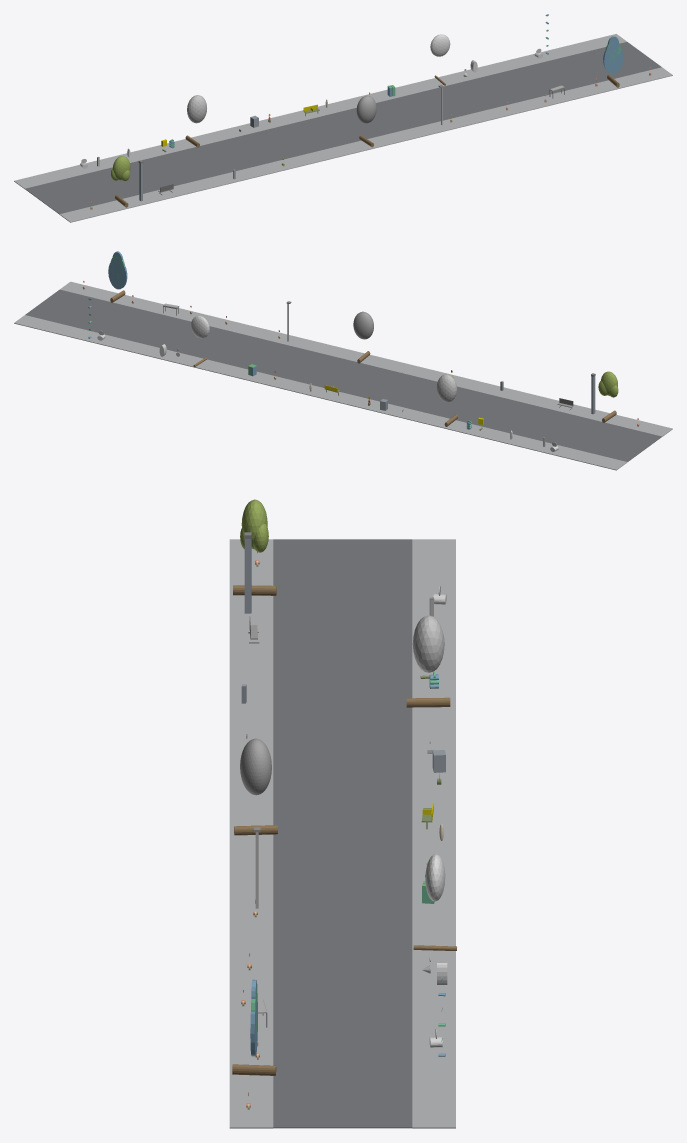
The picture shows the model from 3 angles, top to bottom: view 1: azimuth 30°, elevation 25°; view 2: azimuth 150°, elevation 25°; view 3: azimuth 270°, elevation 25°; orthographic projection. The views are drawn at different scales.
Parts seen in each view (by area): view 1: road_slab, sidewalk_left, sidewalk_right, inst_0016, inst_0013, inst_0014, inst_0012, inst_0015; view 2: road_slab, sidewalk_right, sidewalk_left, inst_0016, inst_0013, inst_0014, inst_0012, inst_0015; view 3: road_slab, sidewalk_left, sidewalk_right, inst_0013, inst_0014, inst_0012, inst_0016, inst_0015.
Part boxes in pixels (x1,y1,x2,y2): road_slab: (25,42,661,214); sidewalk_left: (59,67,672,222); sidewalk_right: (14,34,626,188); inst_0016: (603,36,623,87); inst_0013: (185,95,206,147); inst_0014: (356,95,376,147); inst_0012: (111,156,130,207); inst_0015: (430,34,450,85); road_slab: (25,289,661,461); sidewalk_right: (14,315,627,470); sidewalk_left: (60,281,672,436); inst_0016: (108,251,127,302); inst_0013: (436,374,457,426); inst_0014: (353,311,373,363); inst_0012: (598,371,618,422); inst_0015: (191,315,209,367); road_slab: (273,539,412,1128); sidewalk_left: (229,539,273,1128); sidewalk_right: (412,539,455,1128); inst_0013: (406,615,450,707); inst_0014: (234,738,277,835); inst_0012: (233,499,276,595); inst_0016: (232,979,276,1075); inst_0015: (413,854,456,950).
Bounding box in the file's own units: 80 × 6.08 × 13.07.
